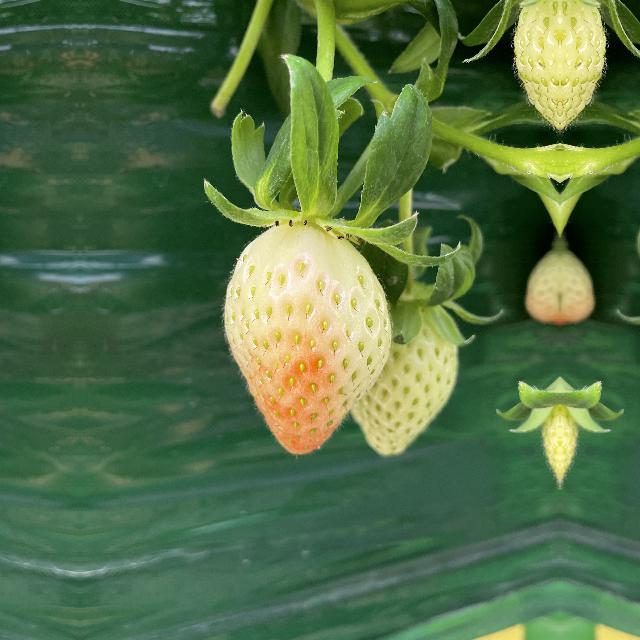Health_25: (356, 290, 466, 460)
Health_50: (216, 205, 398, 460)
